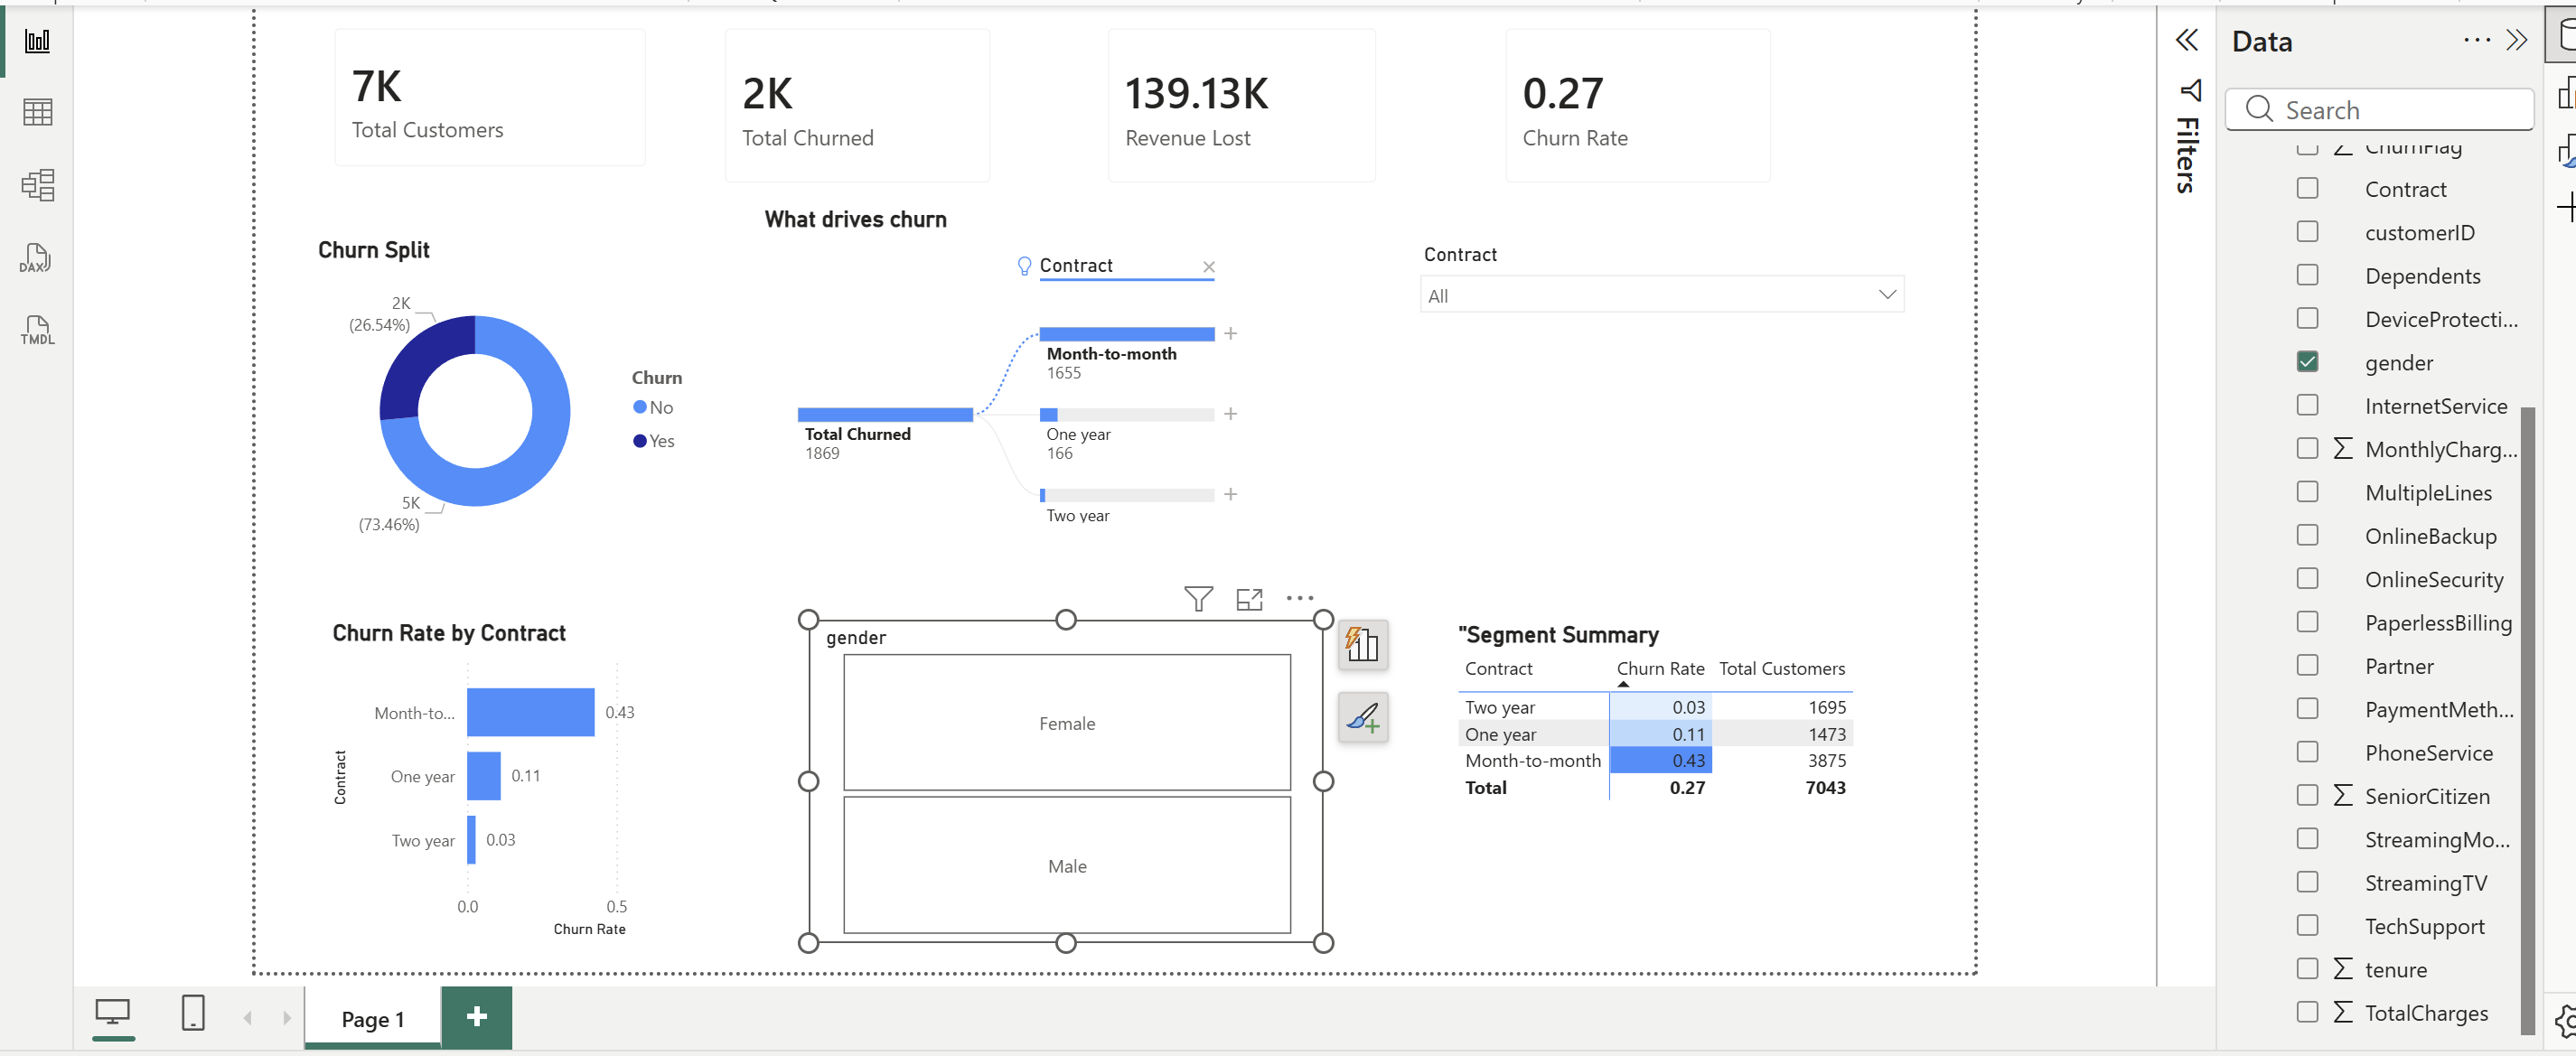

Layout of this report page (visuals, bound fields, positions):
{"tool":"powerbi","page":{"name":"Page 1","canvas":[1280,720],"ordinal":0},"visuals":[{"type":"cardVisual","fields":{"Data":["_Measure.Total Customers"]},"box":[41.7,0,266.5,137.3],"z":0},{"type":"cardVisual","fields":{"Data":["_Measure.Total Churned"]},"box":[332.4,0,232.8,149.4],"z":1000},{"type":"cardVisual","fields":{"Data":["_Measure.Revenue Lost"]},"box":[617.7,0,234.2,149.4],"z":2000},{"type":"cardVisual","fields":{"Data":["_Measure.Churn Rate"]},"box":[913.8,0,232.8,149.4],"z":3000},{"type":"donutChart","title":"Churn Split","fields":{"Category":["WA_Fn-UseC_-Telco-Customer-Churn.Churn"],"Y":["_Measure.Total Customers"]},"box":[41.7,172.3,301.5,240.9],"z":4000},{"type":"clusteredBarChart","fields":{"Category":["WA_Fn-UseC_-Telco-Customer-Churn.Contract"],"Y":["_Measure.Churn Rate"]},"box":[53,458,301,241],"z":5000},{"type":"pivotTable","title":"\"Segment Summary","fields":{"Rows":["WA_Fn-UseC_-Telco-Customer-Churn.Contract"],"Values":["_Measure.Churn Rate","_Measure.Total Customers"]},"box":[891.1,459.1,347.5,240.7],"z":6000},{"type":"decompositionTreeVisual","title":"What drives churn","fields":{"Analyze":["_Measure.Total Churned"],"ExplainBy":["WA_Fn-UseC_-Telco-Customer-Churn.Contract","WA_Fn-UseC_-Telco-Customer-Churn.InternetService","WA_Fn-UseC_-Telco-Customer-Churn.PaymentMethod"]},"box":[374.1,149.4,380.9,240.9],"z":7000},{"type":"slicer","fields":{"Values":["WA_Fn-UseC_-Telco-Customer-Churn.gender"]},"box":[411.8,457.6,383.6,240.9],"z":7001},{"type":"slicer","fields":{"Values":["WA_Fn-UseC_-Telco-Customer-Churn.Contract"]},"box":[857.3,172.3,380.9,240.9],"z":7002}]}

Visuals, with their boxes on the page's 1280x720 design canvas (x1, y1, x2, y2). These are canvas units, not pixel positions in the 2576x1056 screenshot, which may show the page scaled, cropped or inside an application window:
cardVisual - _Measure.Total Customers: [42, 0, 308, 137]
cardVisual - _Measure.Total Churned: [332, 0, 565, 149]
cardVisual - _Measure.Revenue Lost: [618, 0, 852, 149]
cardVisual - _Measure.Churn Rate: [914, 0, 1147, 149]
"Churn Split" donutChart: [42, 172, 343, 413]
clusteredBarChart - WA_Fn-UseC_-Telco-Customer-Churn.Contract x _Measure.Churn Rate: [53, 458, 354, 699]
""Segment Summary" pivotTable: [891, 459, 1239, 700]
"What drives churn" decompositionTreeVisual: [374, 149, 755, 390]
slicer - WA_Fn-UseC_-Telco-Customer-Churn.gender: [412, 458, 795, 698]
slicer - WA_Fn-UseC_-Telco-Customer-Churn.Contract: [857, 172, 1238, 413]
